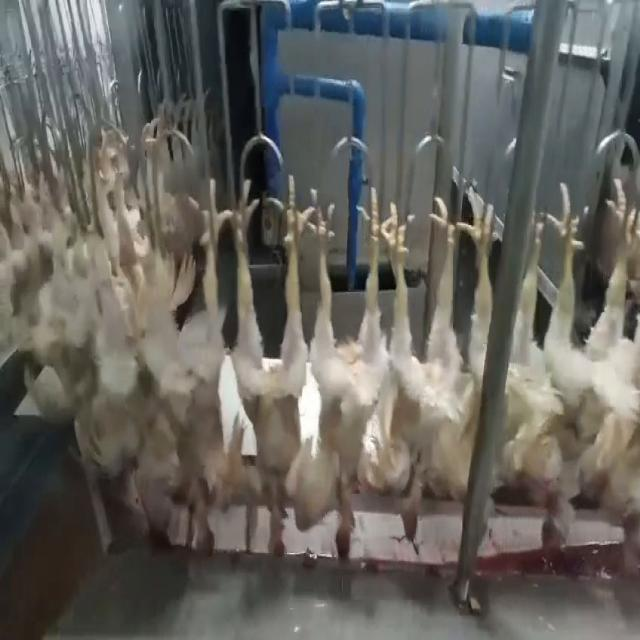chicken: (380, 180, 490, 549), (297, 190, 402, 572), (498, 174, 586, 560), (225, 160, 304, 570), (144, 172, 223, 558), (576, 187, 639, 512)
